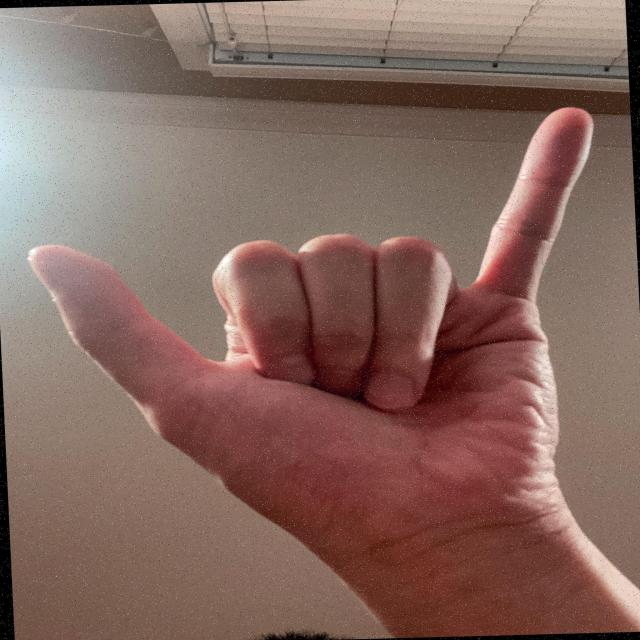Y: (12, 102, 617, 580)
